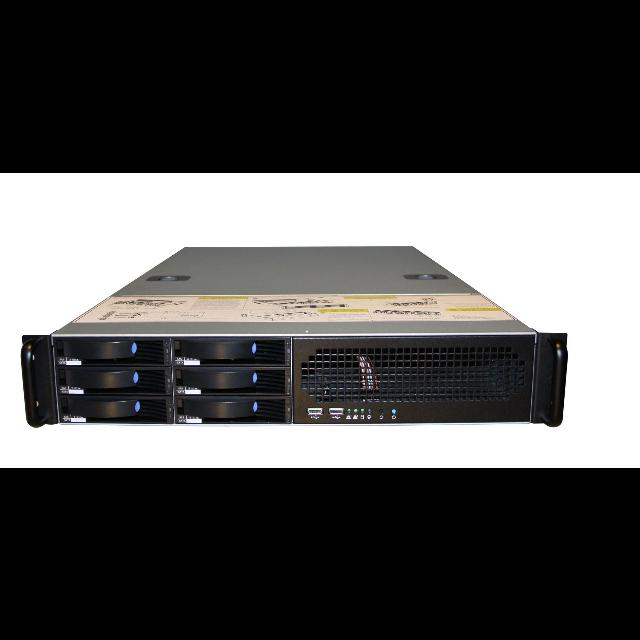Server: (19, 240, 570, 438)
